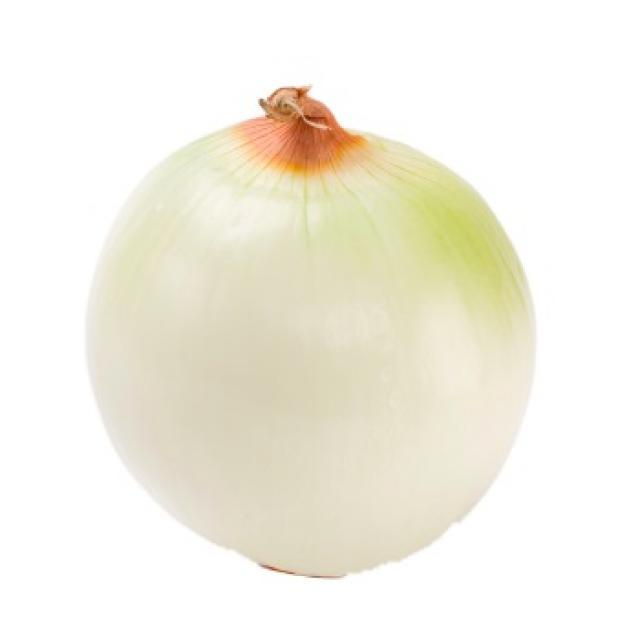onion: (84, 102, 541, 579)
